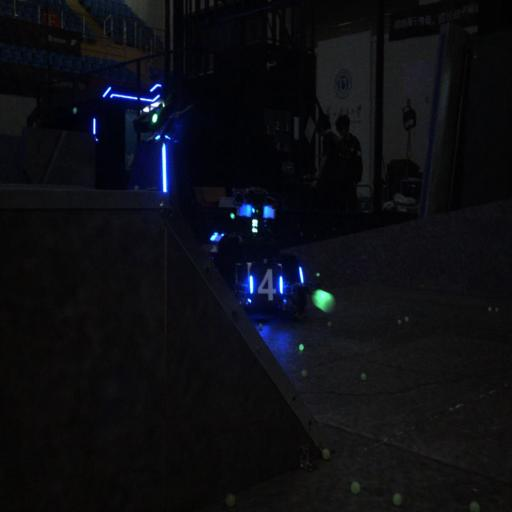target: (248, 263, 284, 304)
